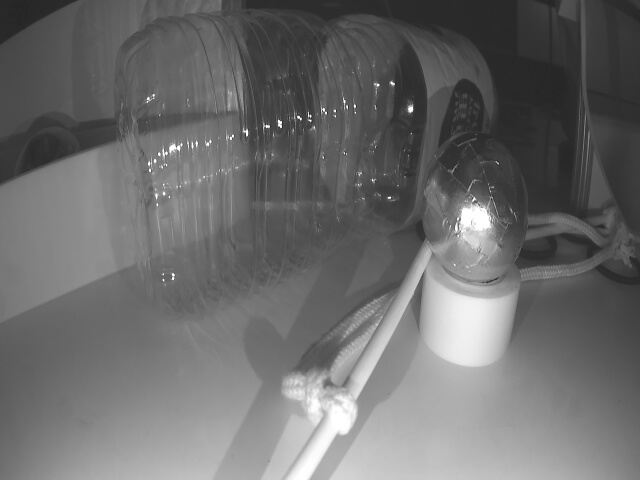Live: (426, 131, 523, 278)
Point: (0, 101, 239, 323)
